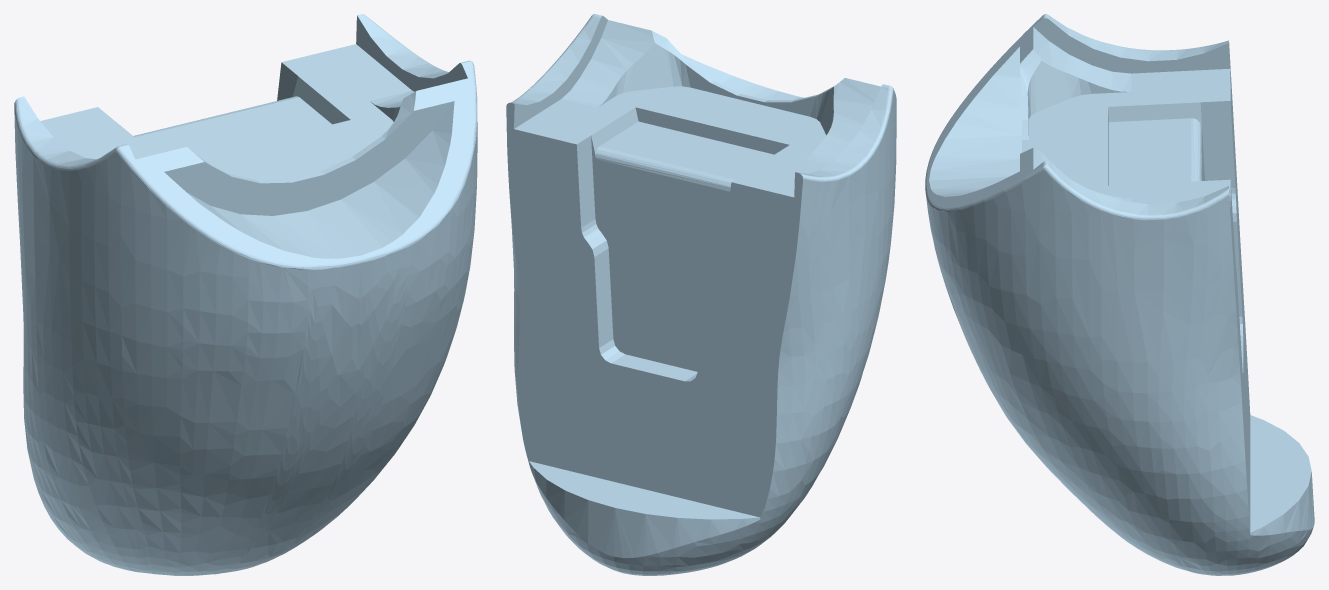
Rendered from l_thumb_tip_sensor_frame_render.glb.
3 renders of one model, left to right at view 1: azimuth 30°, elevation 25°; view 2: azimuth 150°, elevation 25°; view 3: azimuth 270°, elevation 25°, orthographic. The views are drawn at different scales.
Parts seen in each view (by area): view 1: world; view 2: world; view 3: world.
Part boxes in pixels (x1,y1,x2,y2): world: [14, 14, 477, 575]; world: [506, 14, 896, 575]; world: [925, 14, 1314, 575].
Bounding box in the file's own units: 0.0198 × 0.0255 × 0.0193.
